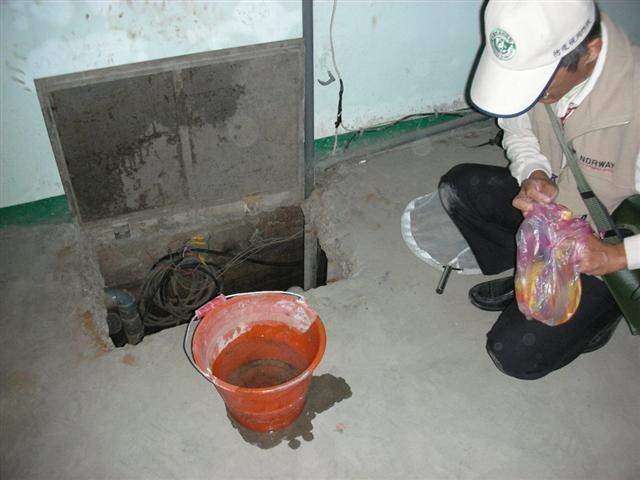bucket: (183, 289, 327, 433)
